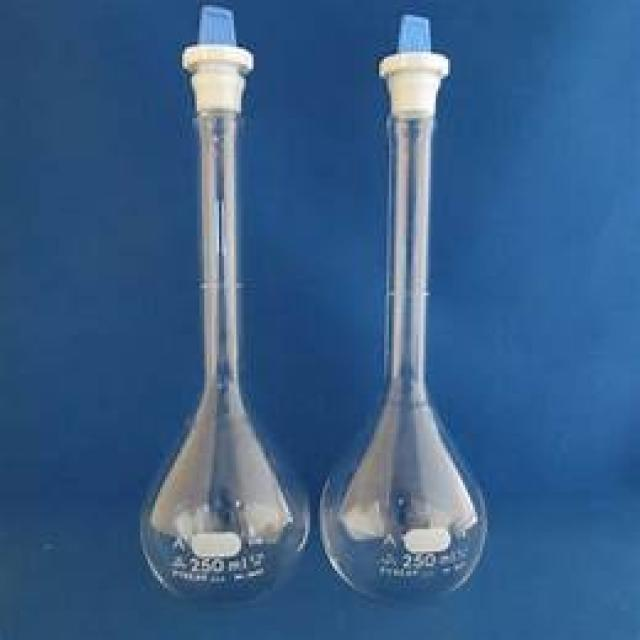Volumetric flask: (319, 11, 493, 604), (144, 3, 311, 604)
